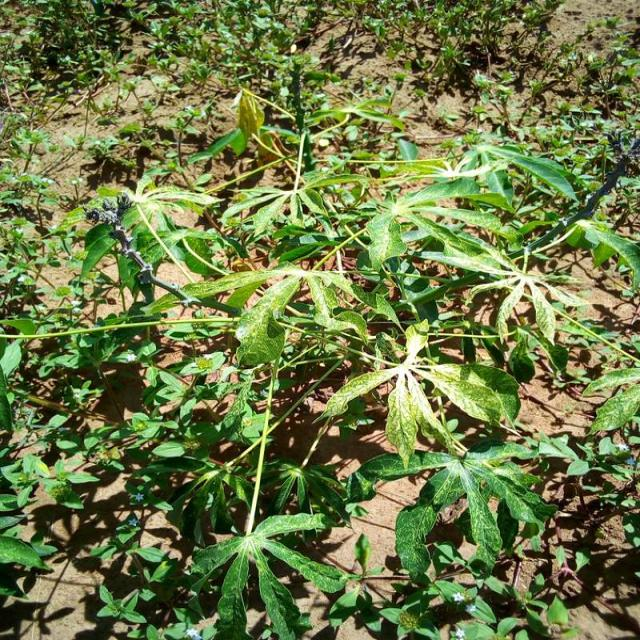cassava leaf: (234, 273, 302, 367)
